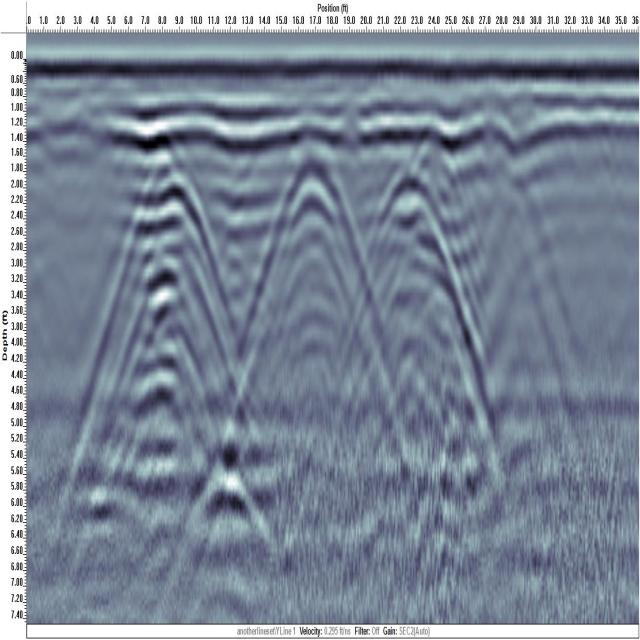hyperbola: (244, 149, 369, 345), (363, 158, 478, 358)
